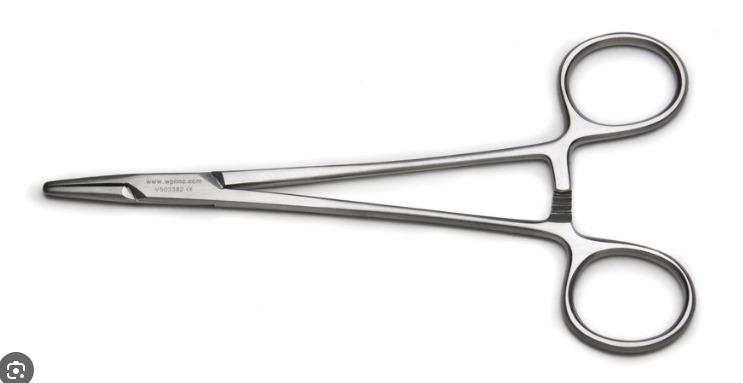Needle Holder: (35, 19, 703, 359)
